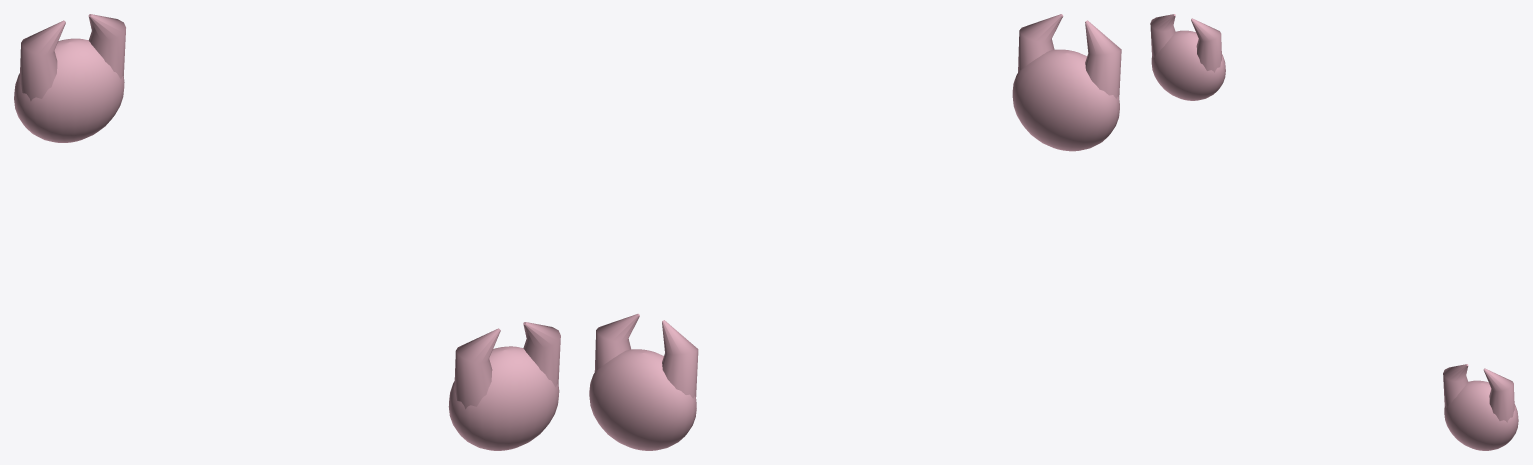
Rendered from familiar_hermit_crab_grip_GripBffsOneIdle.glb.
The picture shows the model from 3 angles, left to right: view 1: azimuth 30°, elevation 25°; view 2: azimuth 150°, elevation 25°; view 3: azimuth 330°, elevation 25°; orthographic projection. The views are drawn at different scales.
Size of the model in its own units: 15.1 by 14.53 by 2.
